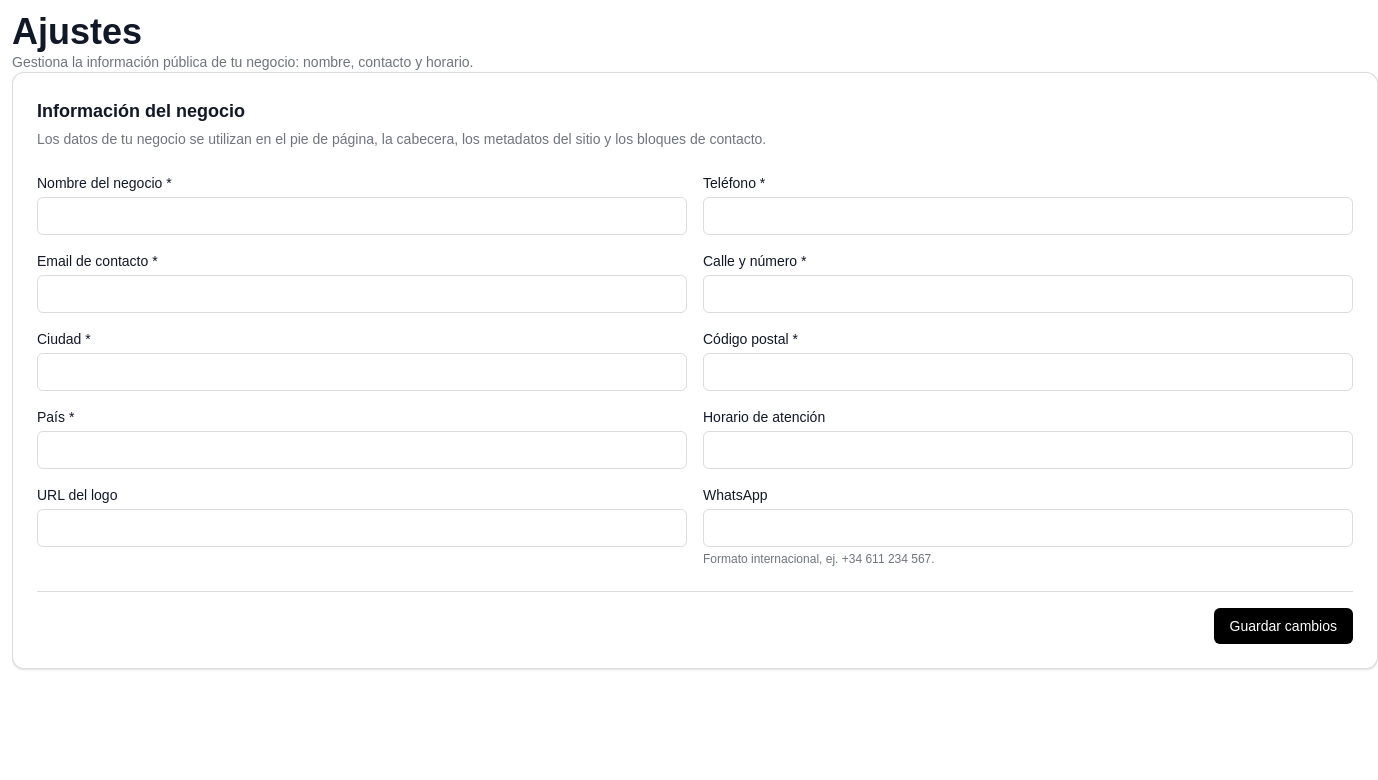
Test: AdminCompanyProfileForm › validation › blocks submit and lists missing required fields
Expected: the heading "Información del negocio" is shown, [37,101,245,121]
Click the button "Guardar cambios" at coordinates (1283, 626), box [1214,608,1353,644]
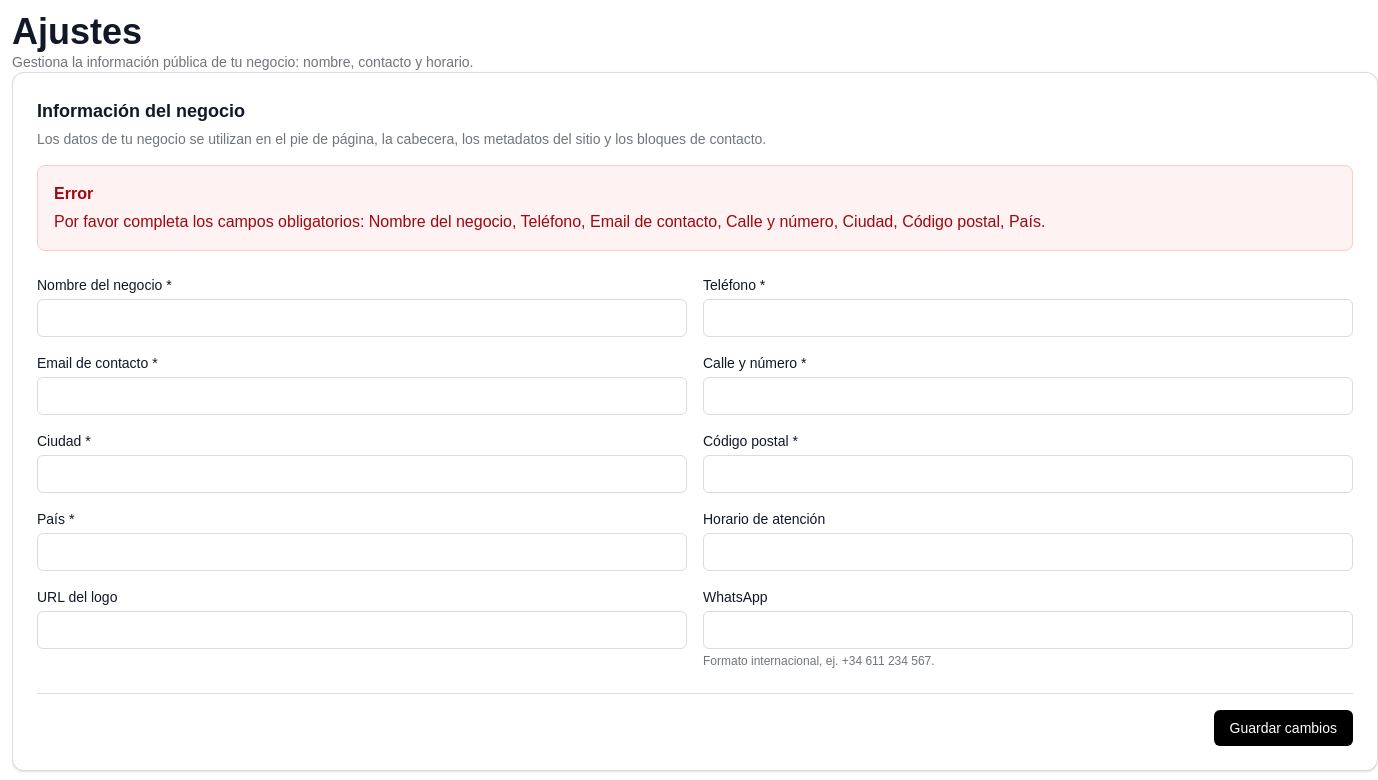
Now the text "Error" is shown, box [54,185,93,202]
